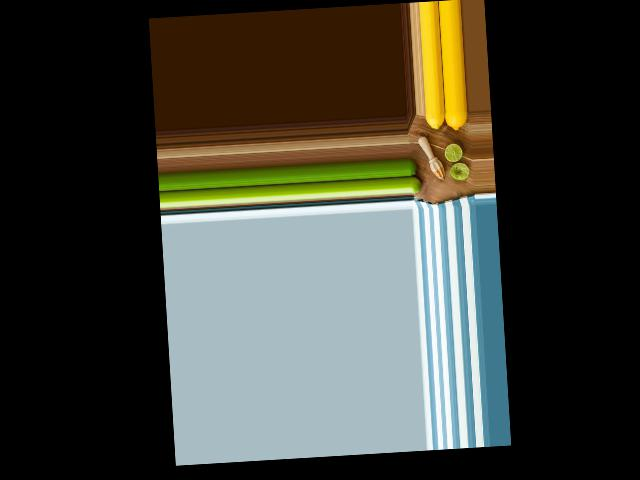lemon: (442, 111, 470, 134)
